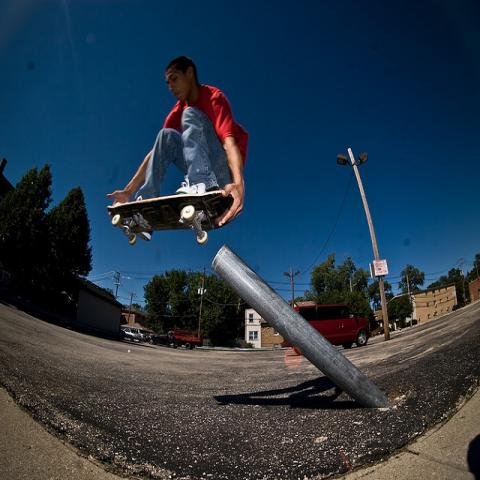car: (294, 304, 374, 349), (145, 334, 178, 347), (125, 328, 140, 338)
truck: (167, 329, 204, 350)
